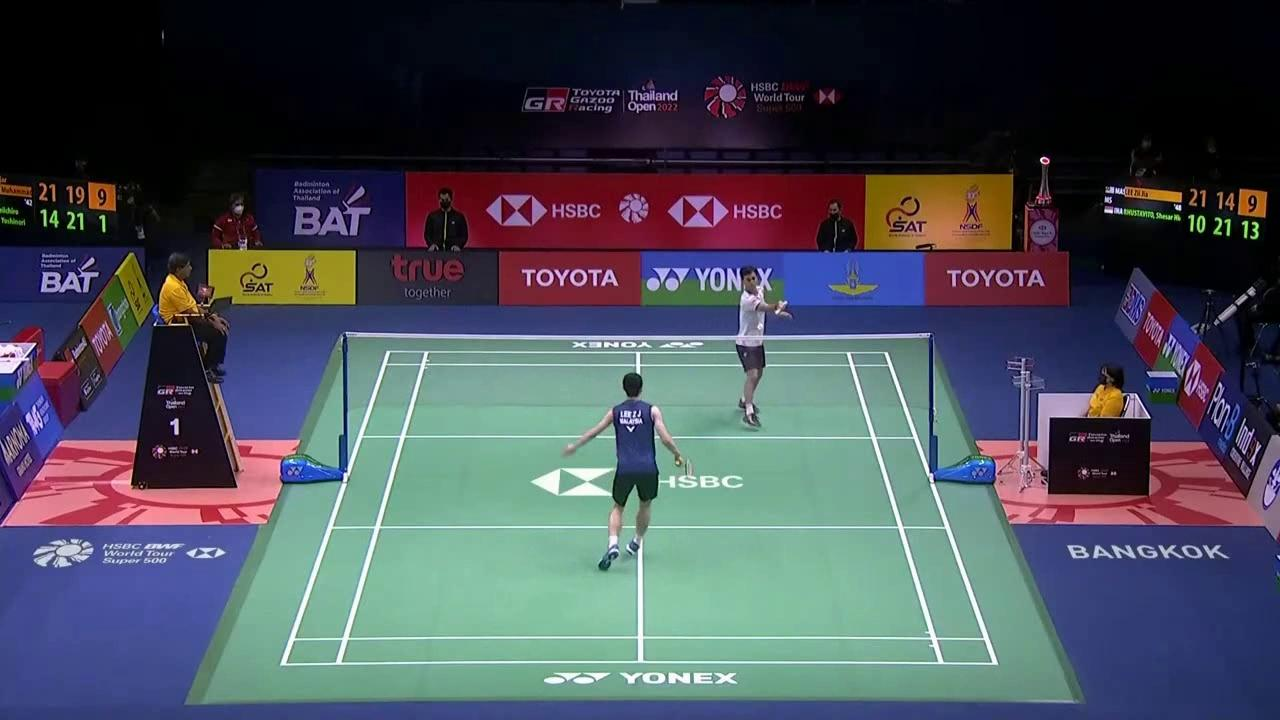racket: (745, 300, 789, 345), (675, 456, 694, 479)
shuttle: (756, 323, 764, 331)
